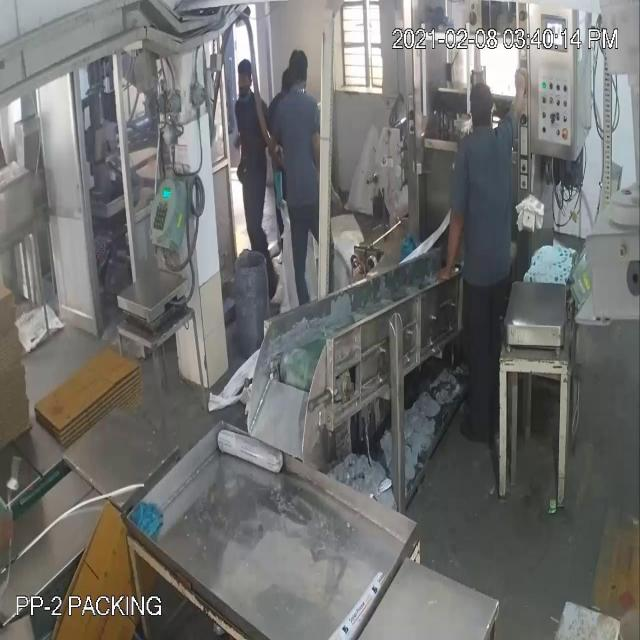No_Gloves: (18, 72, 517, 246)
